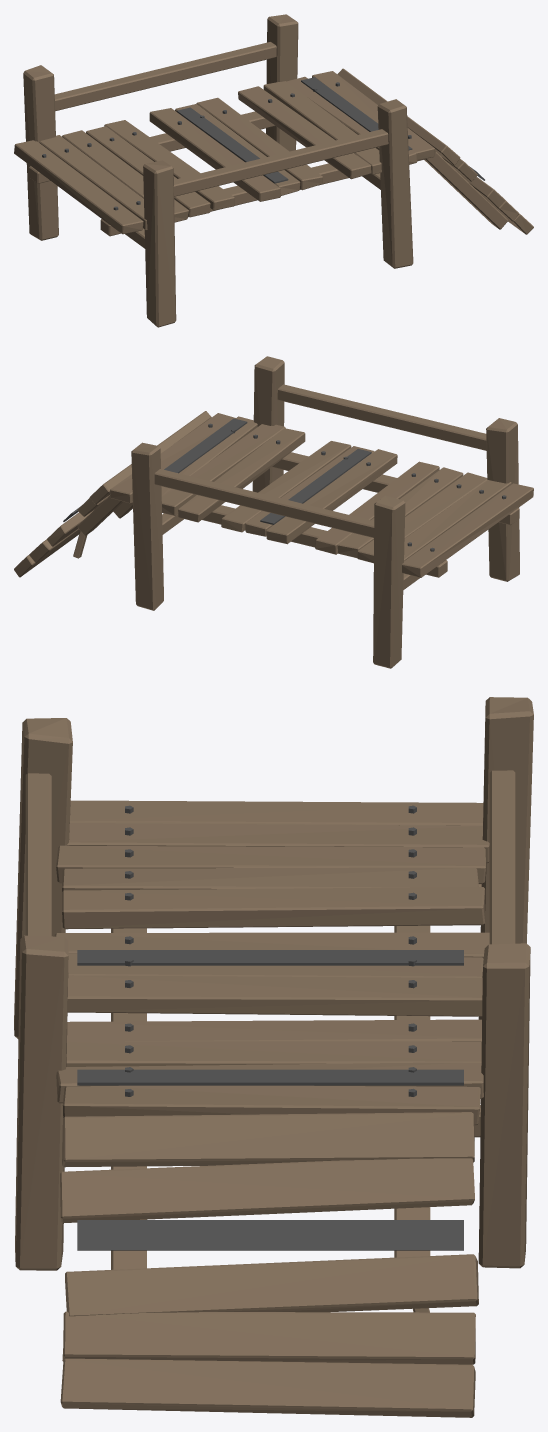
File: bridge_broken.glb
3 renders of one model, top to bottom at view 1: azimuth 30°, elevation 25°; view 2: azimuth 150°, elevation 25°; view 3: azimuth 270°, elevation 25°, orthographic. The views are drawn at different scales.
Visible parts, largest first — view 1: wood, iron; view 2: wood, iron; view 3: wood, iron.
Part boxes in pixels (x1,y1,x2,y2): wood: [14, 14, 533, 327]; iron: [42, 77, 484, 210]; wood: [14, 356, 533, 668]; iron: [63, 418, 506, 551]; wood: [14, 697, 533, 1417]; iron: [77, 805, 463, 1250].
Bounding box in the file's own units: 3.68 × 1.49 × 2.02.
